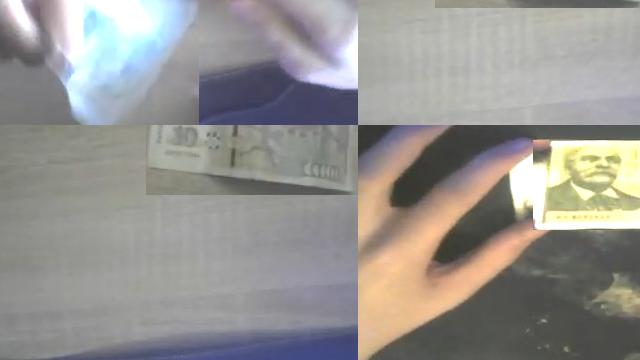10leva: (146, 125, 356, 195), (526, 139, 640, 230), (533, 140, 640, 230)
